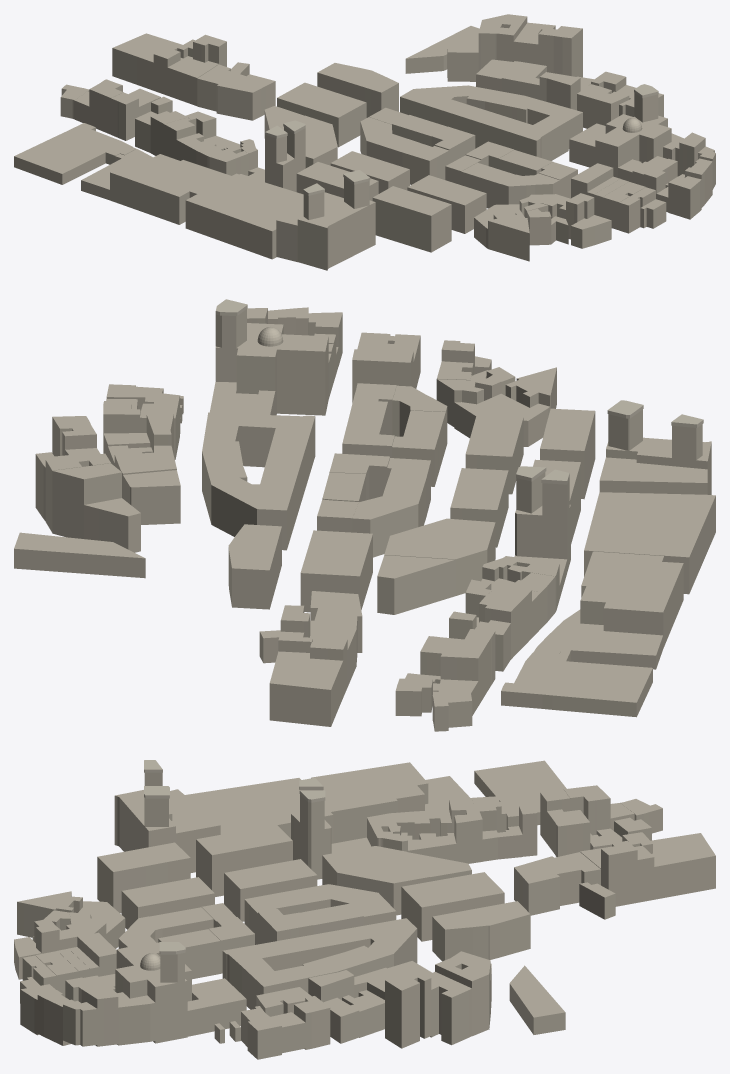
Rendered from birgu_60_25_mid.glb.
3 views of the same model, one above another, from view 1: azimuth 30°, elevation 25°; view 2: azimuth 150°, elevation 25°; view 3: azimuth 270°, elevation 25° (orthographic). The views are drawn at different scales.
Visible parts, largest first — view 1: geometry_0; view 2: geometry_0; view 3: geometry_0.
Part boxes in pixels (box(x1,y1,x2,y2)): geometry_0: box(14, 14, 715, 270); geometry_0: box(14, 299, 715, 731); geometry_0: box(14, 760, 715, 1059).
Bounding box in the file's own units: 201 × 29.41 × 201.
